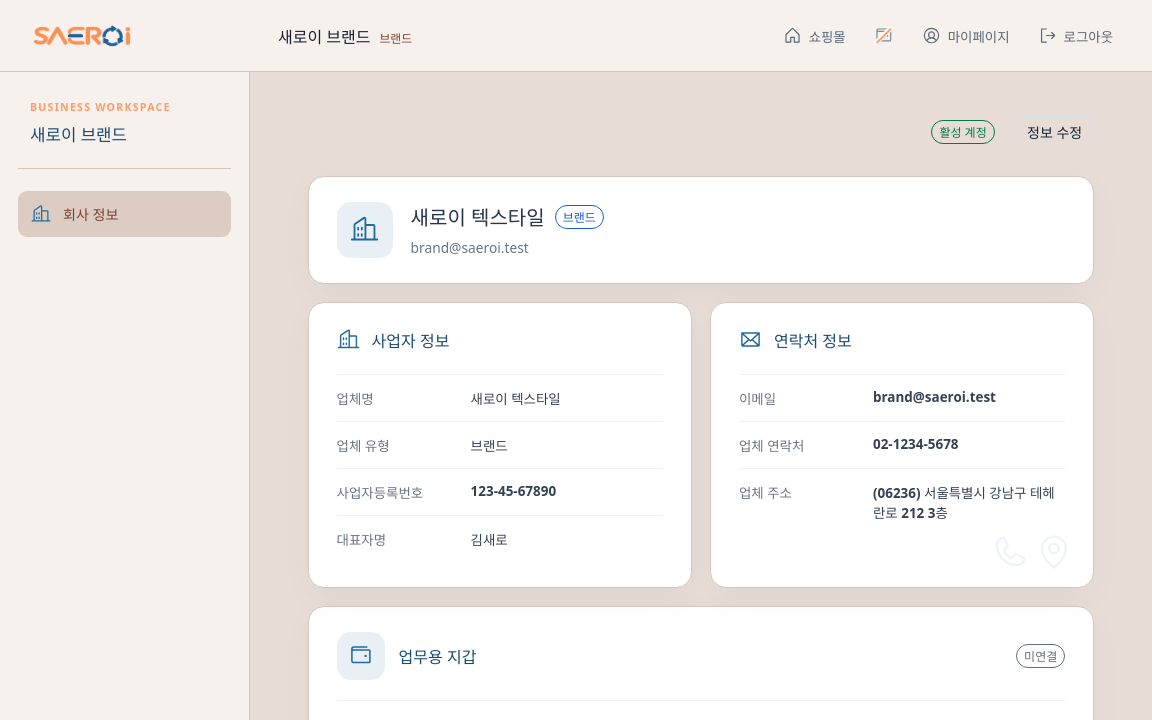
Scenario: 업체 정보 수정 › 정보 수정을 누르면 지금 값이 채워진 폼이 뜬다
Click the button "정보 수정" at (1055, 132), box x1=1015 y1=116 x2=1094 y2=148
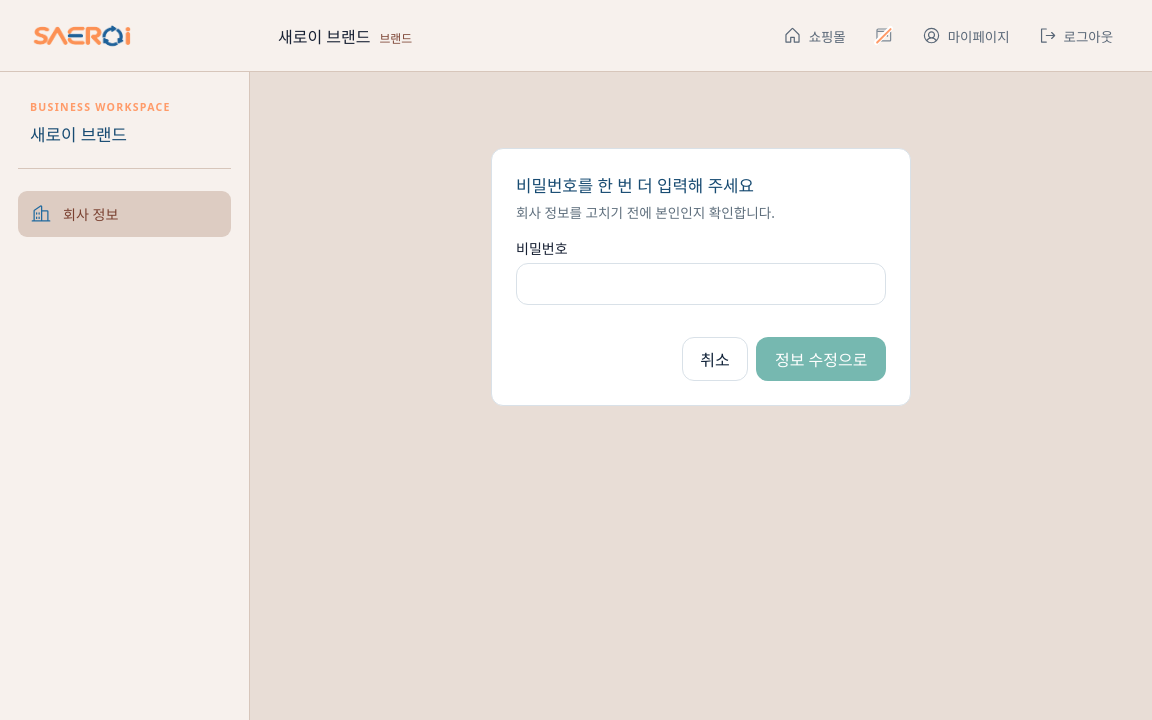
Type "Pw1234!!" into the password field labelled "비밀번호" at (701, 284), box x1=516 y1=263 x2=886 y2=305
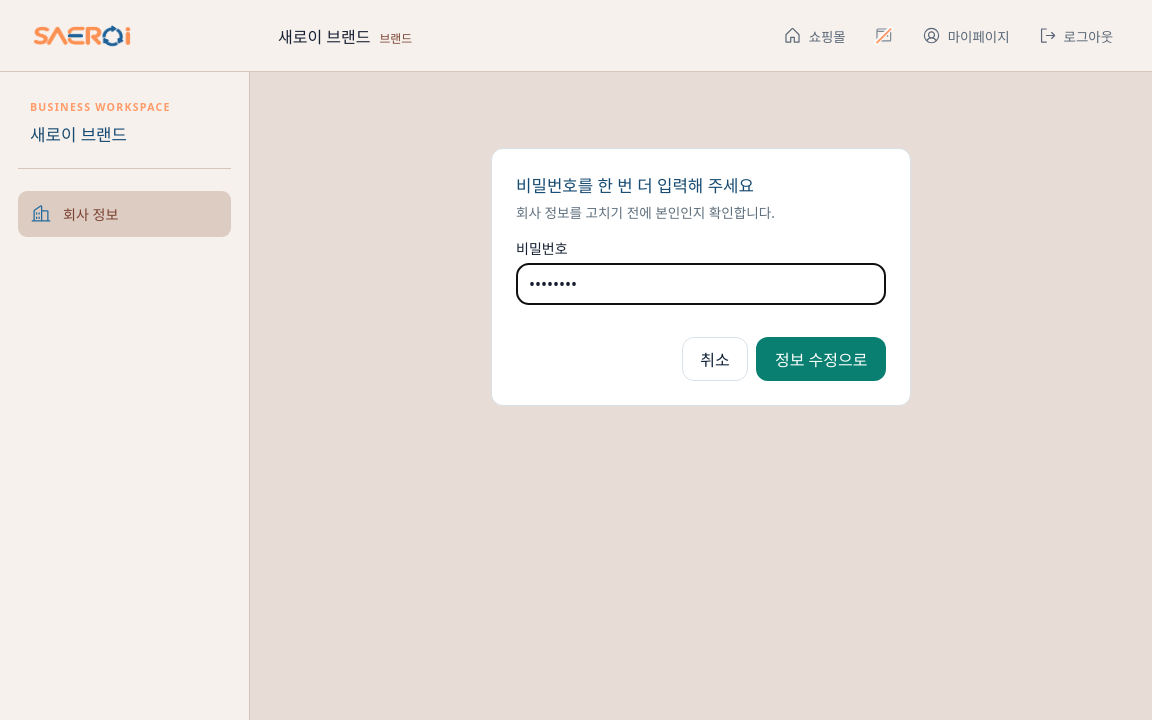
Click the button "정보 수정으로" at (821, 359), box x1=756 y1=337 x2=886 y2=381
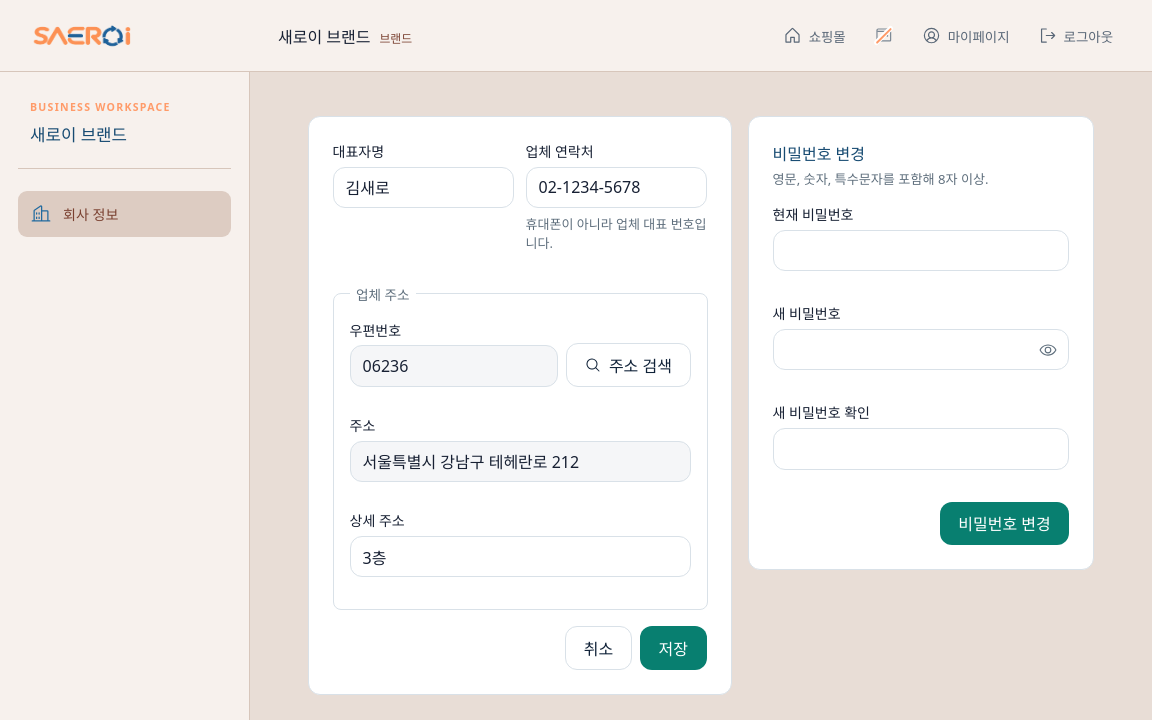
Expected: the field labelled "대표자명" holds "김새로", x1=333 y1=167 x2=514 y2=208
